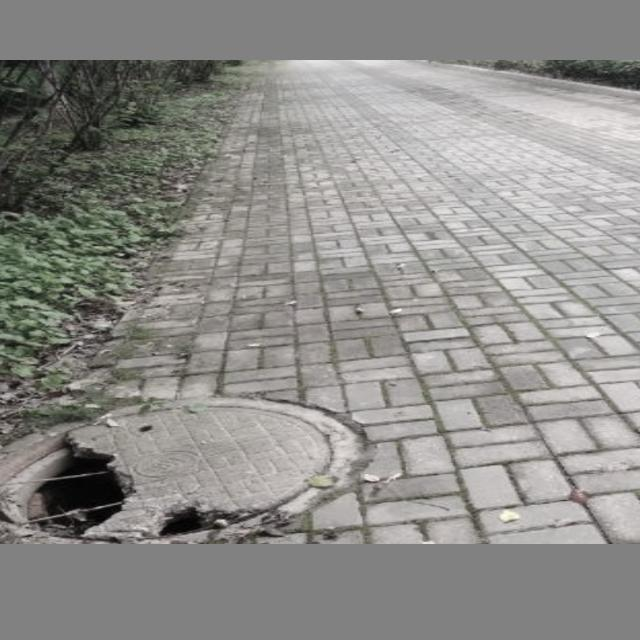broke: (0, 395, 361, 544)
